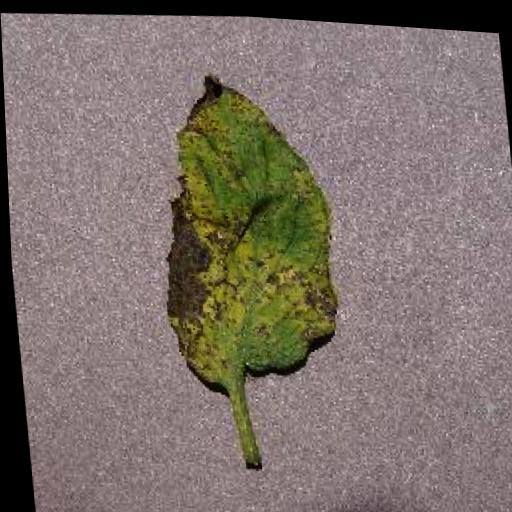Septoria: (140, 55, 349, 397)
